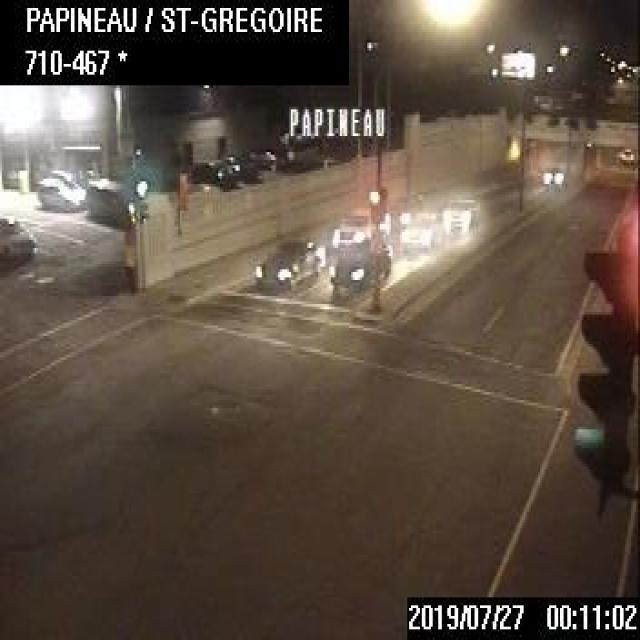vehicle: (331, 234, 390, 296), (83, 176, 147, 229), (254, 234, 316, 285), (0, 212, 38, 276), (34, 171, 83, 208), (193, 152, 239, 187), (440, 196, 480, 236), (330, 206, 368, 248), (400, 213, 438, 250), (540, 163, 564, 184), (618, 144, 636, 164)
